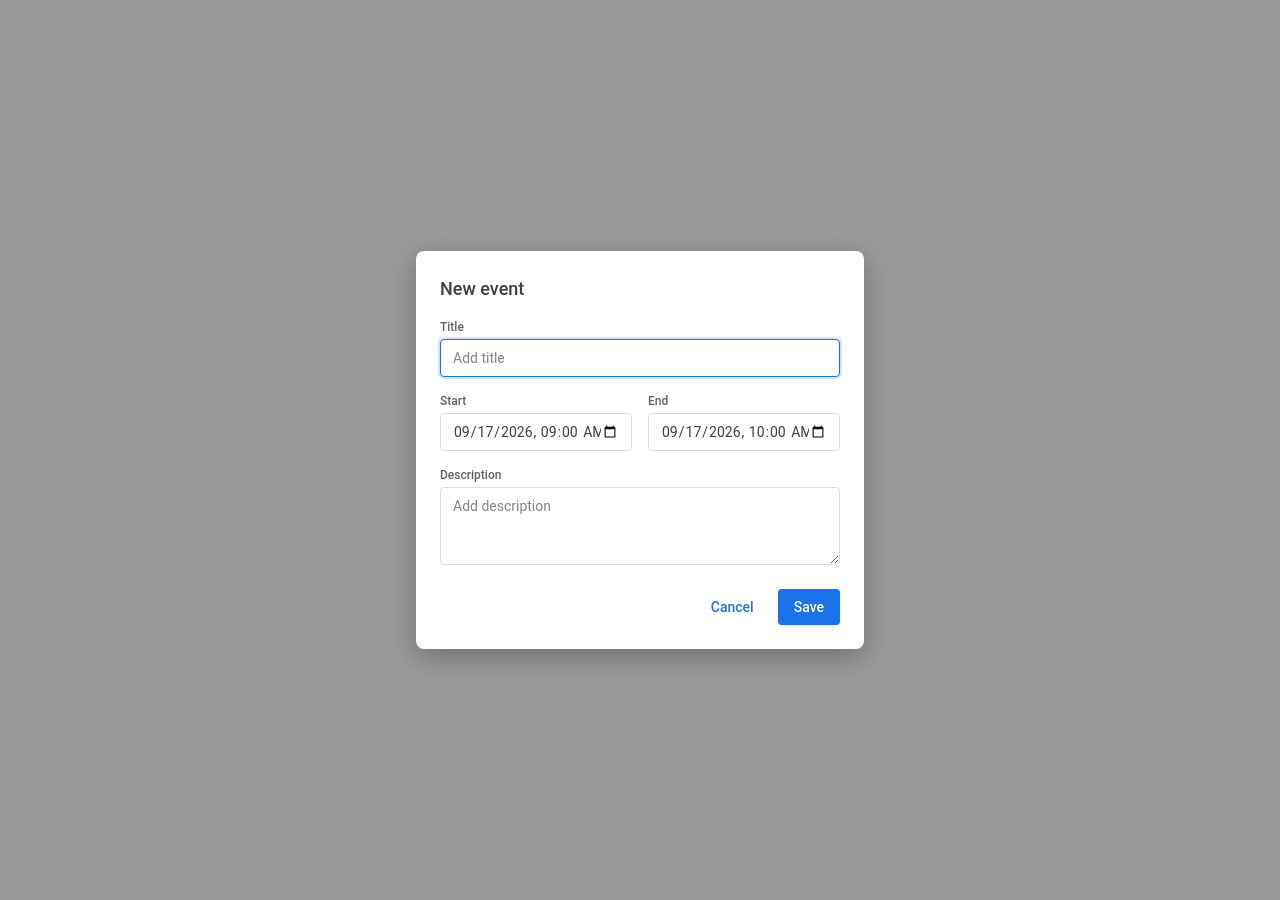
EventFormDialog › shows validation errors and does not submit
The image size is (1280, 900).
Replace the text in the field labelled "End" with "2026-09-17T08:00": (744, 432) x1=648 y1=413 x2=840 y2=451
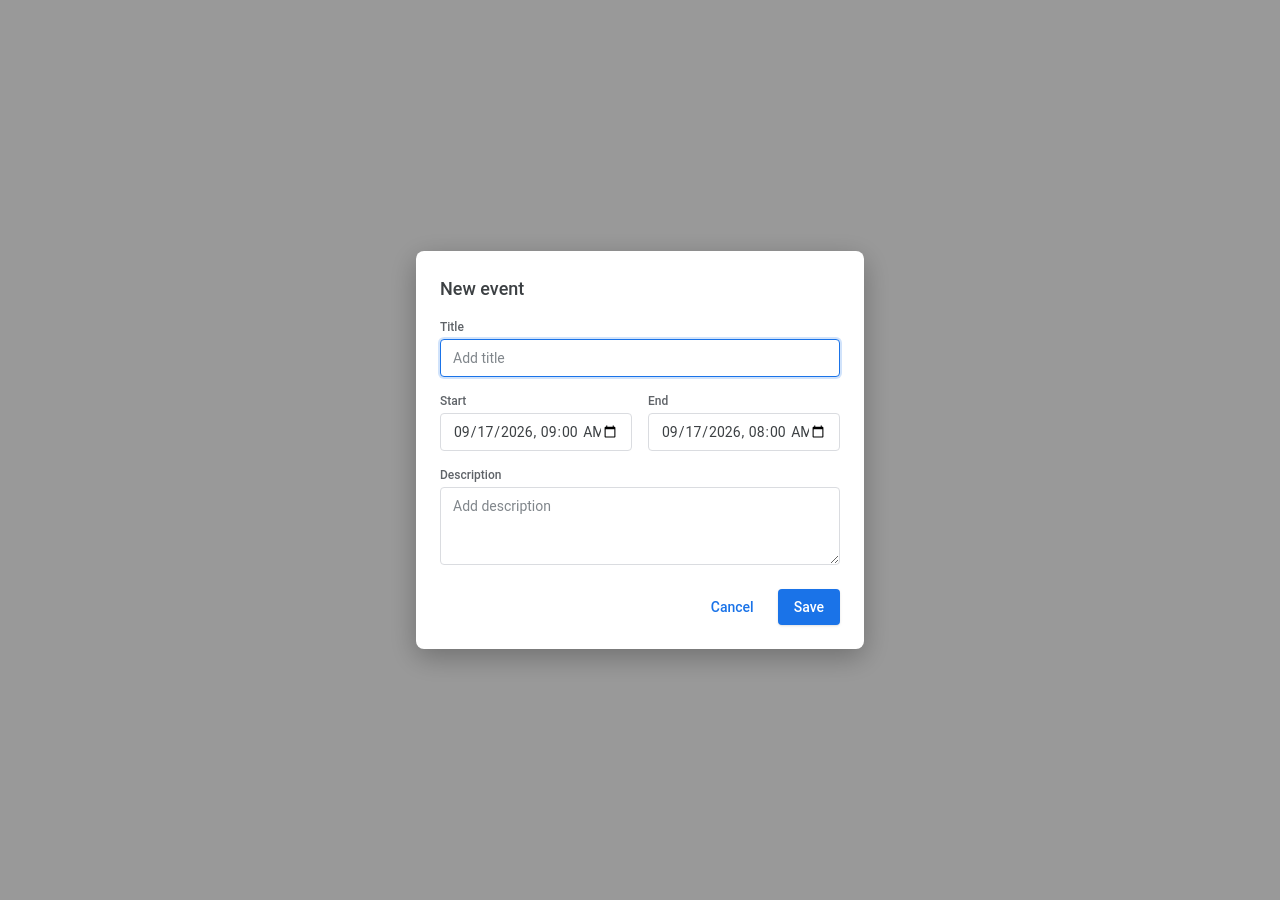
Click the button "Save": (809, 607) x1=778 y1=589 x2=840 y2=625
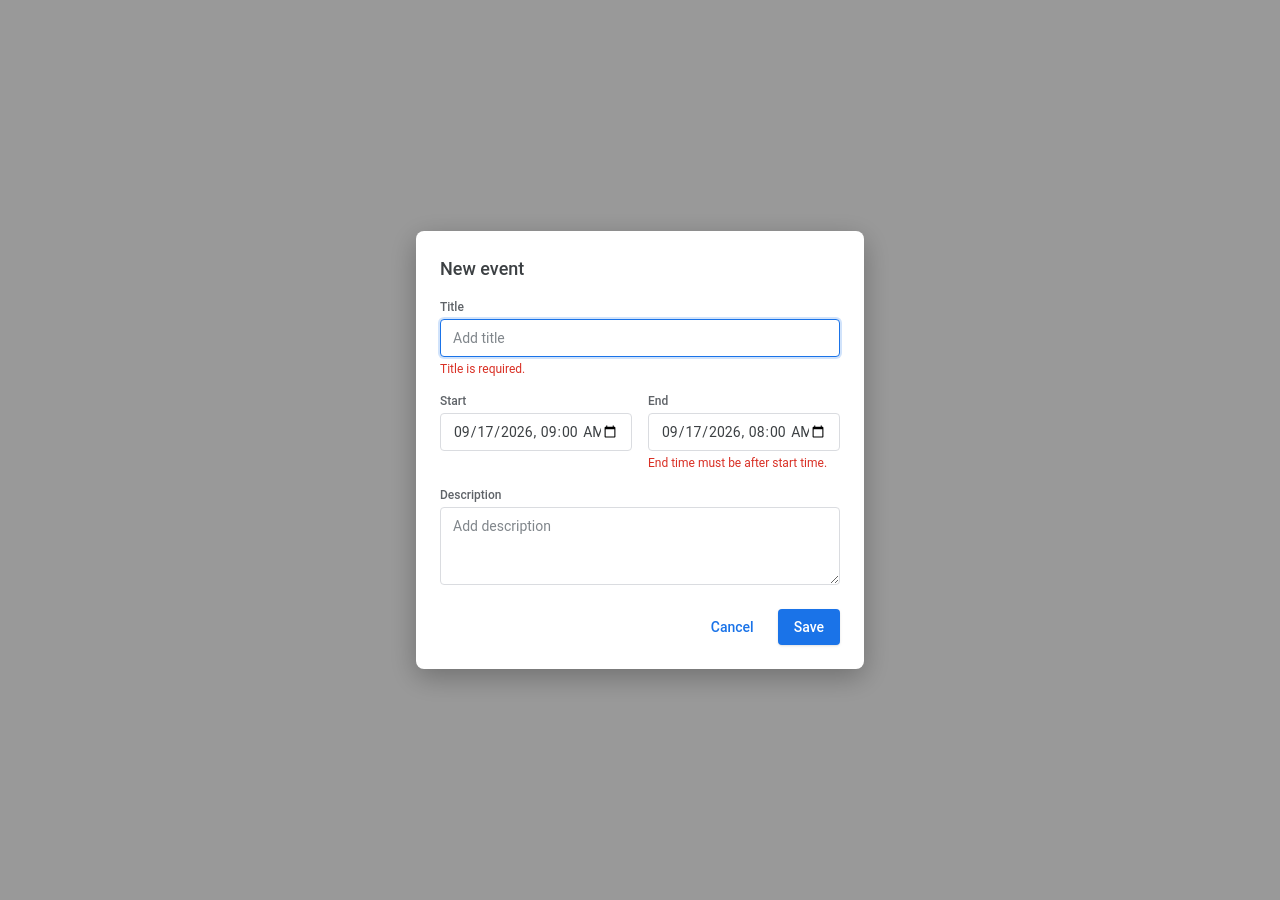
Expected: the text "Title is required." is shown, x1=440 y1=362 x2=525 y2=376
Expected: the text "End time must be after start time." is shown, x1=648 y1=455 x2=840 y2=471
